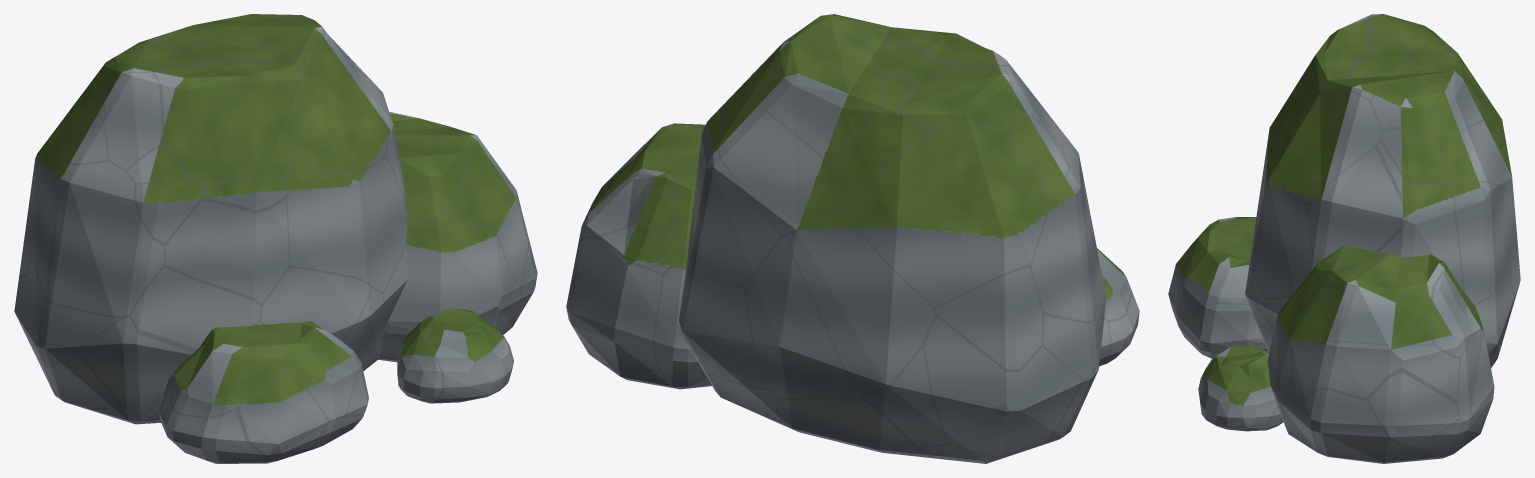
File: rock.glb
3 views of the same model, side by side, from view 1: azimuth 30°, elevation 25°; view 2: azimuth 150°, elevation 25°; view 3: azimuth 270°, elevation 25° (orthographic). The views are drawn at different scales.
Parts seen in each view (by area): view 1: ForestRock_Mesh; view 2: ForestRock_Mesh; view 3: ForestRock_Mesh.
Part boxes in pixels (x1=…): ForestRock_Mesh: x1=14, y1=14, x2=537, y2=463; ForestRock_Mesh: x1=566, y1=14, x2=1139, y2=463; ForestRock_Mesh: x1=1168, y1=14, x2=1520, y2=463.
Size of the model in its own units: 1.8 by 1.19 by 1.28.
Materials: 1 (1 with a texture image).
